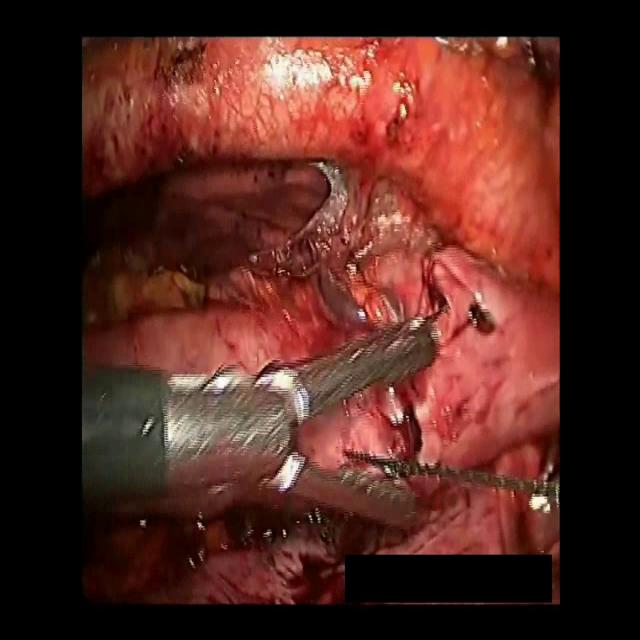surgical-area: (82, 36, 560, 609)
surgical-tool: (82, 317, 440, 532)
